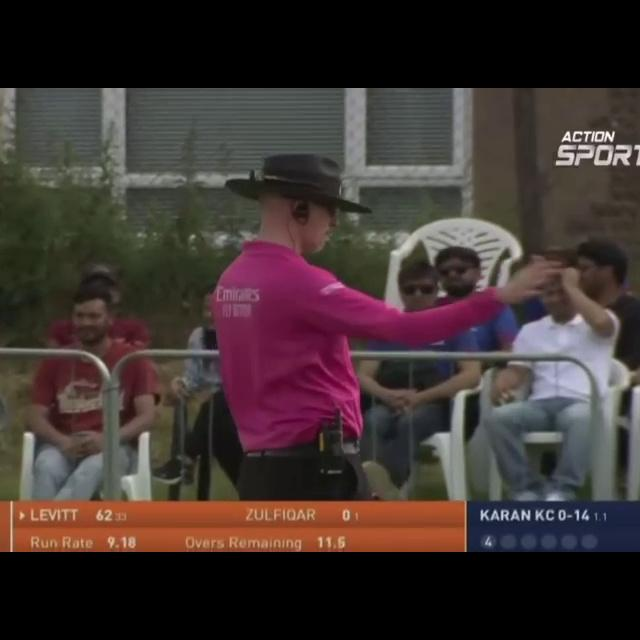umpire: (182, 124, 589, 450)
